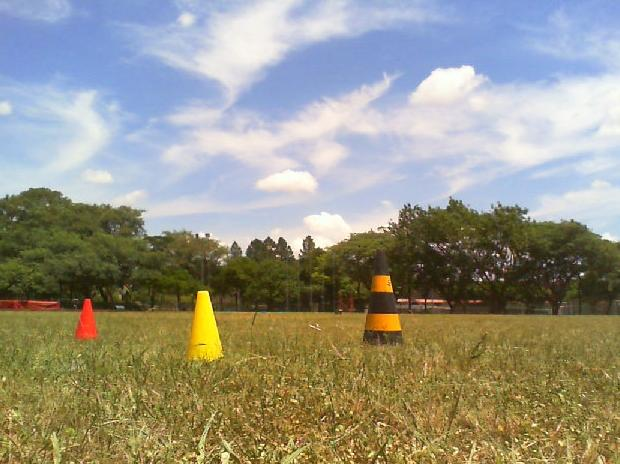0 cone: (362, 249, 405, 345), (189, 292, 223, 362), (74, 299, 97, 338)
